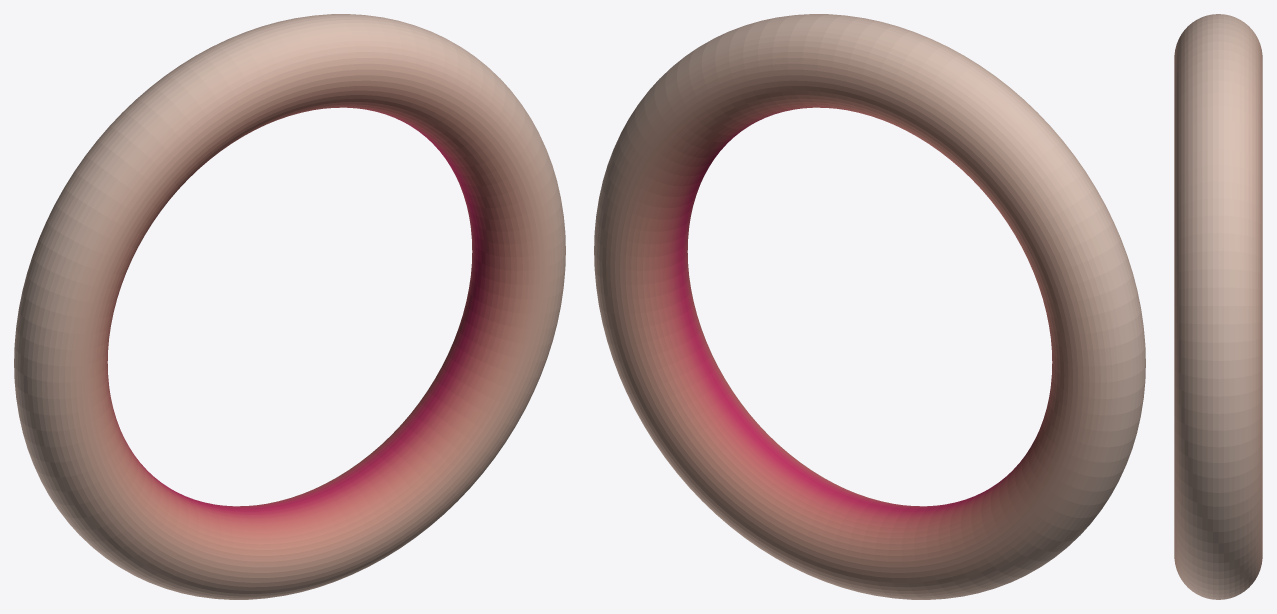
3 renders of one model, left to right at view 1: azimuth 30°, elevation 25°; view 2: azimuth 150°, elevation 25°; view 3: azimuth 270°, elevation 25°, orthographic. The views are drawn at different scales.
Visible parts, largest first — view 1: world; view 2: world; view 3: world.
Part boxes in pixels (bbox=[...]): world: bbox=[14, 14, 565, 599]; world: bbox=[594, 14, 1145, 599]; world: bbox=[1174, 14, 1262, 599].
Bounding box in the file's own units: 34.53 × 34.53 × 5.19.
